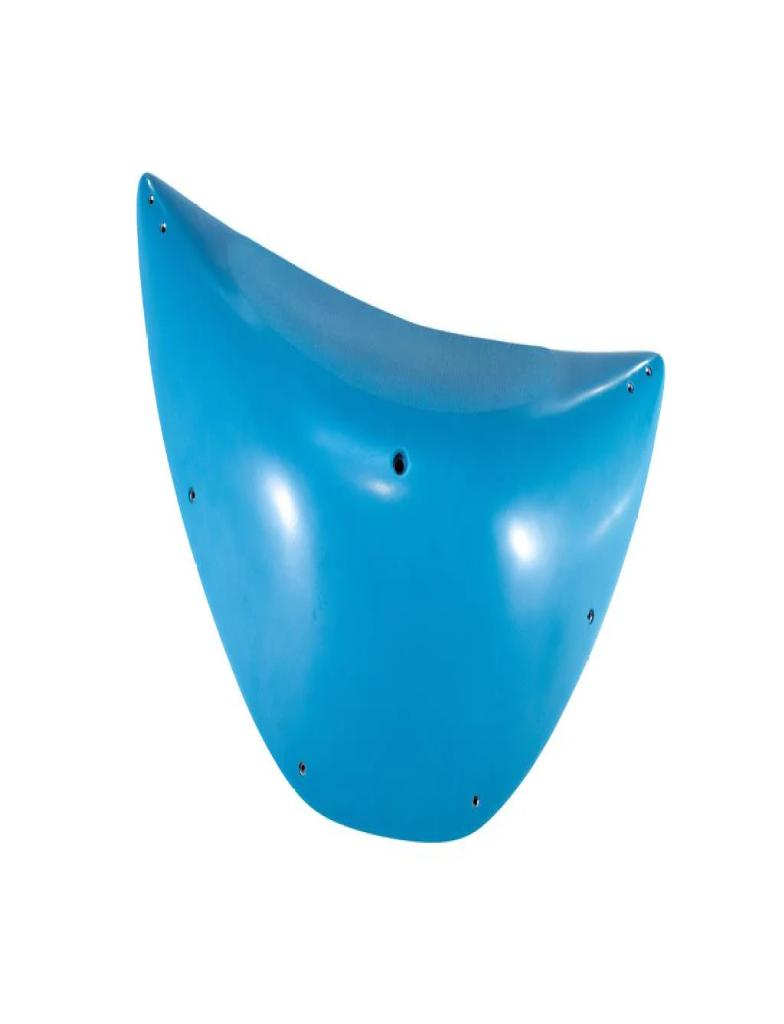sloper: (136, 174, 664, 840)
